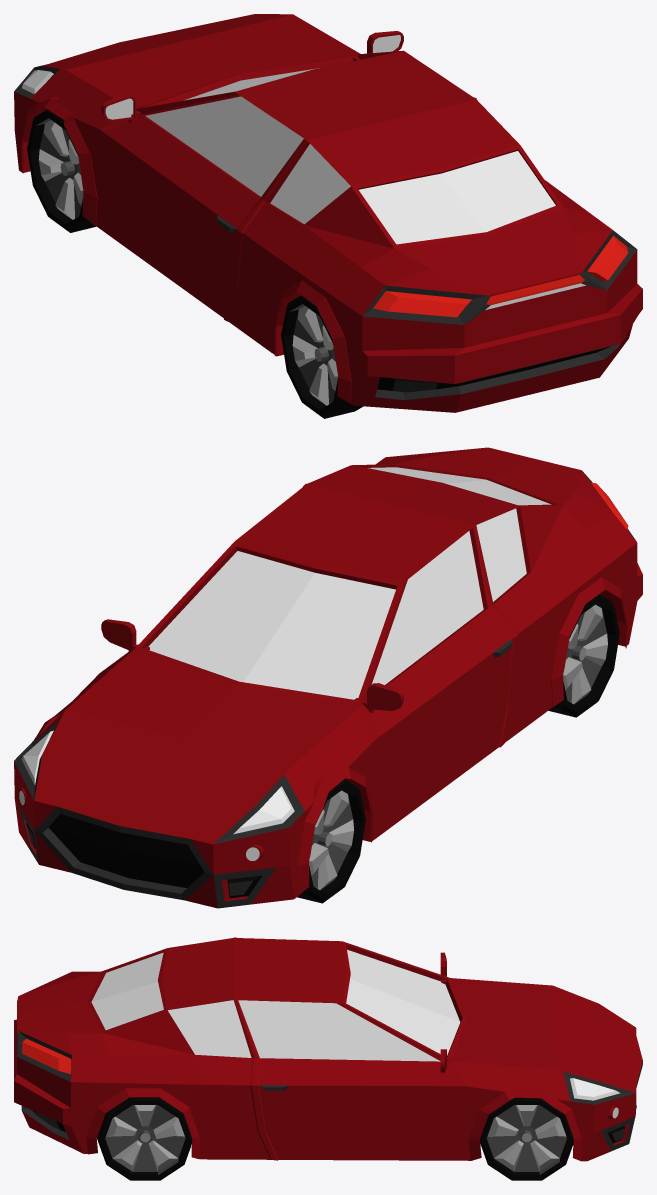
3 views of the same model, one above another, from view 1: azimuth 30°, elevation 25°; view 2: azimuth 150°, elevation 25°; view 3: azimuth 270°, elevation 25° (orthographic). The views are drawn at different scales.
Parts seen in each view (by area): view 1: Body, R_L_Wheel, F_L_Wheel; view 2: Body, R_L_Wheel, F_L_Wheel; view 3: Body, R_R_Wheel, F_R_Wheel.
Boxes of the visible parts, bbox=[...] form: Body: bbox=[14, 14, 642, 412]; R_L_Wheel: bbox=[281, 295, 363, 418]; F_L_Wheel: bbox=[27, 109, 96, 232]; Body: bbox=[14, 447, 642, 908]; R_L_Wheel: bbox=[548, 594, 619, 717]; F_L_Wheel: bbox=[297, 779, 365, 903]; Body: bbox=[14, 937, 642, 1161]; R_R_Wheel: bbox=[97, 1097, 191, 1180]; F_R_Wheel: bbox=[480, 1098, 573, 1180].
Size of the model in its own units: 368 by 253 by 890.
